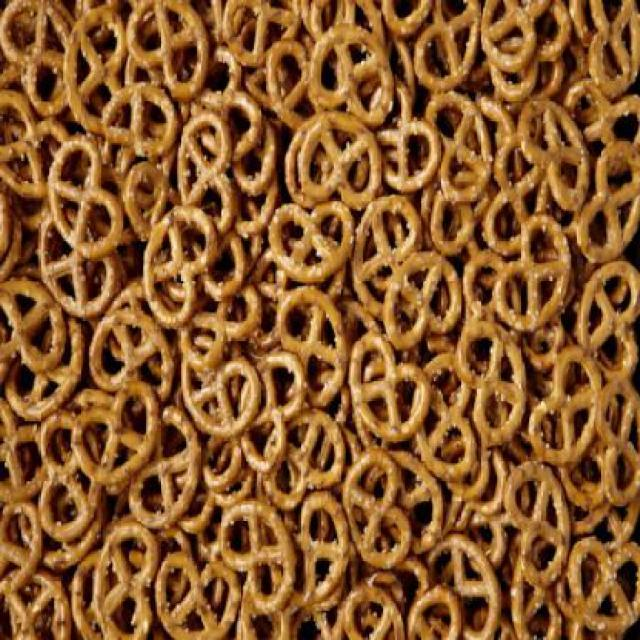Salatini packaged: (12, 8, 634, 634)
